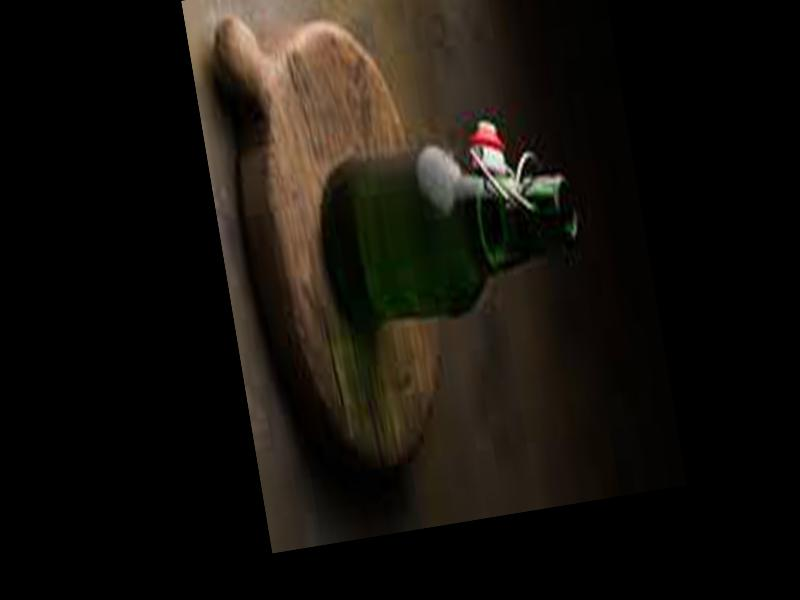Beer: (316, 124, 592, 328)
